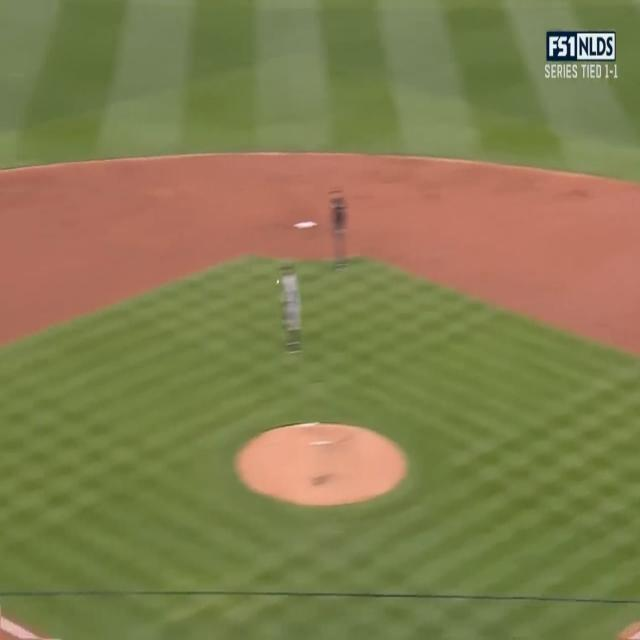baseball: (274, 275, 280, 289)
